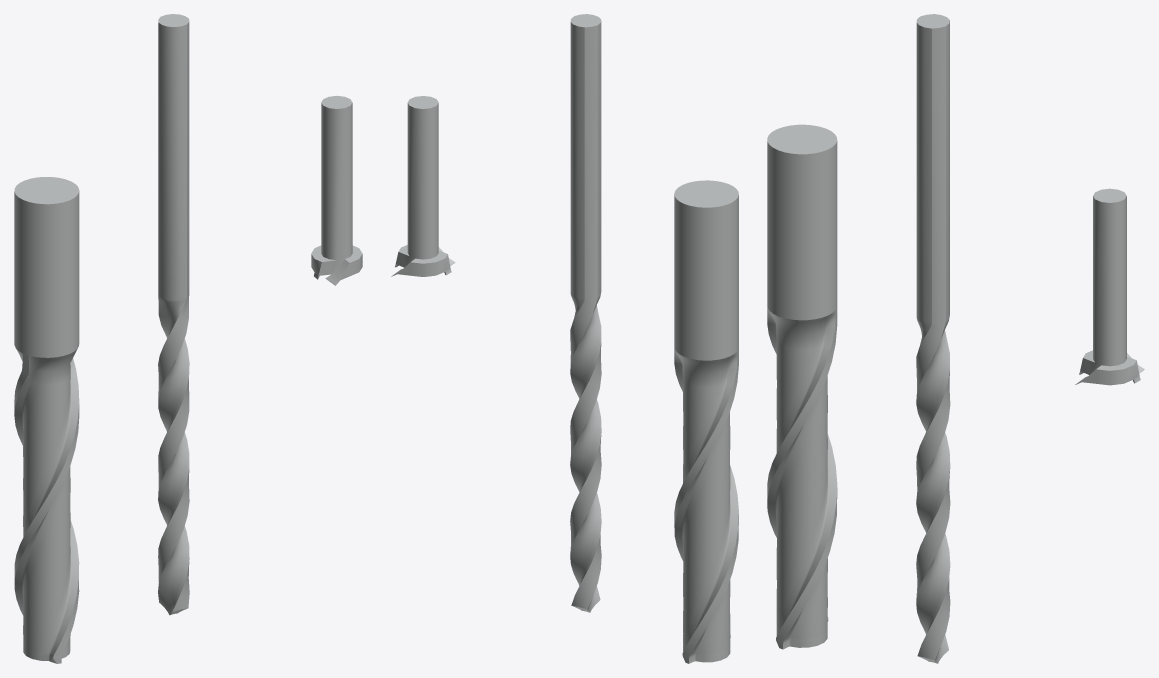
The model's file is zuantou.fbx.
3 views of the same model, side by side, from view 1: azimuth 30°, elevation 25°; view 2: azimuth 150°, elevation 25°; view 3: azimuth 330°, elevation 25° (orthographic). The views are drawn at different scales.
Parts seen in each view (by area): view 1: zuantou (×2); view 2: zuantou (×2); view 3: zuantou (×2).
Boxes of the visible parts, left/top/right/bottom form: zuantou (×2): left=14, top=14, right=362, bottom=663; zuantou (×2): left=391, top=14, right=738, bottom=663; zuantou (×2): left=767, top=14, right=1144, bottom=663.
Bounding box in the file's own units: 27.26 × 46.2 × 4.78.
